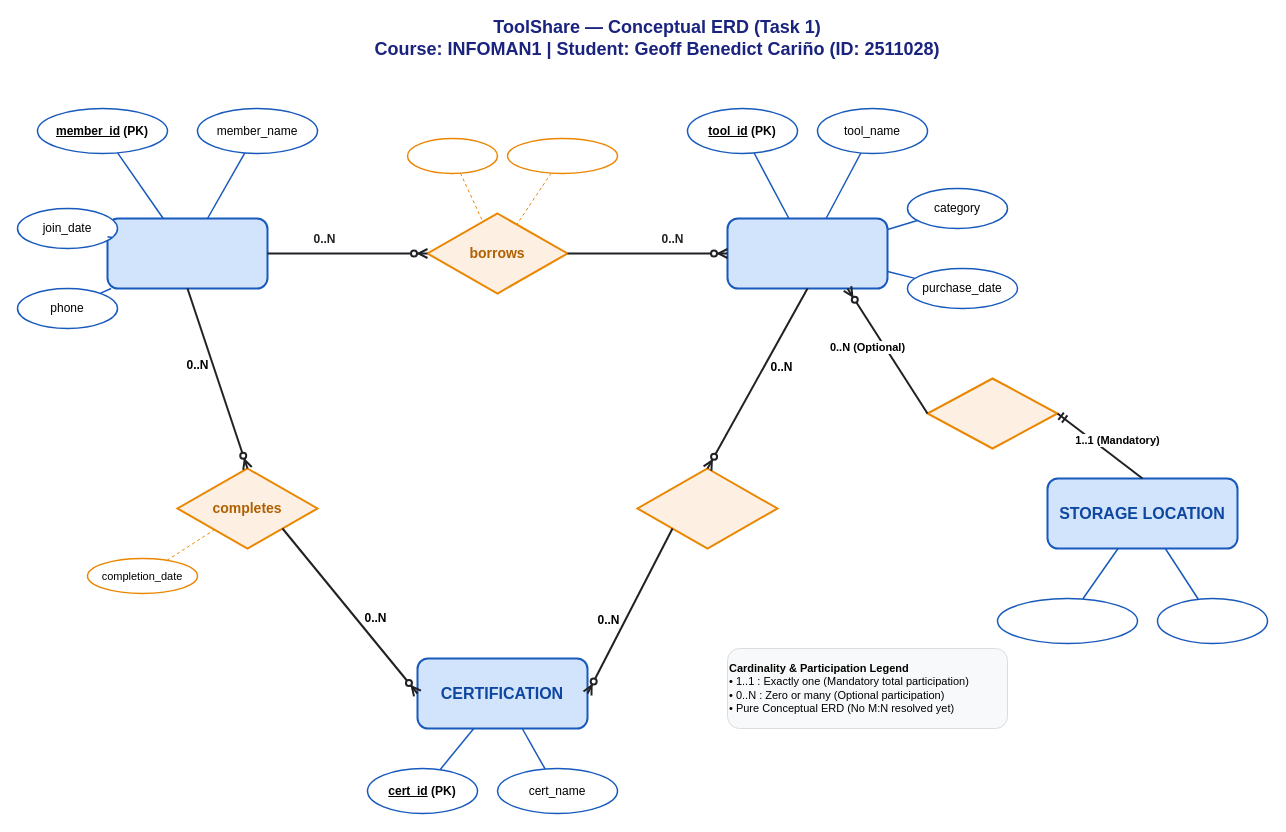
Image size: 1286x832. Some labels were removed from this diagram. The box of each missing label's shape, as (x1, y1, x2, y2) in pixels:
borrow_date: (406, 137, 498, 174)
description: (1156, 597, 1268, 644)
houses: (926, 377, 1058, 449)
location_code (PK): (996, 597, 1138, 644)
MEMBER: (106, 217, 268, 289)
requires: (636, 467, 778, 549)
return_date (null): (506, 137, 618, 174)
TOOL: (726, 217, 888, 289)
